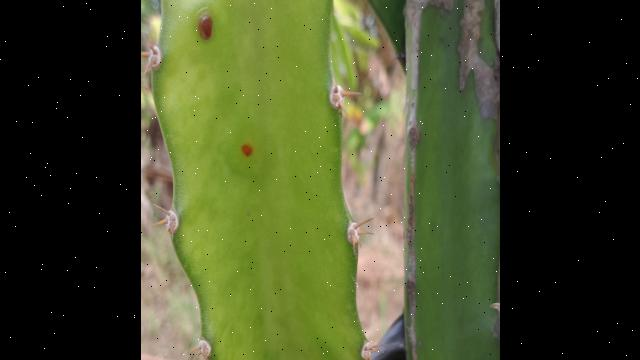stemcanker: (191, 8, 218, 45), (237, 140, 258, 162)
